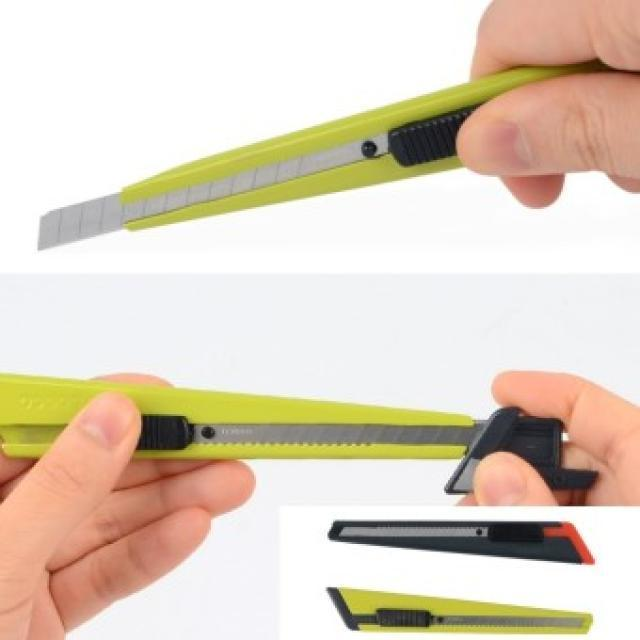cutter: (29, 28, 608, 272), (0, 354, 525, 471), (316, 502, 612, 578), (316, 572, 606, 640)
